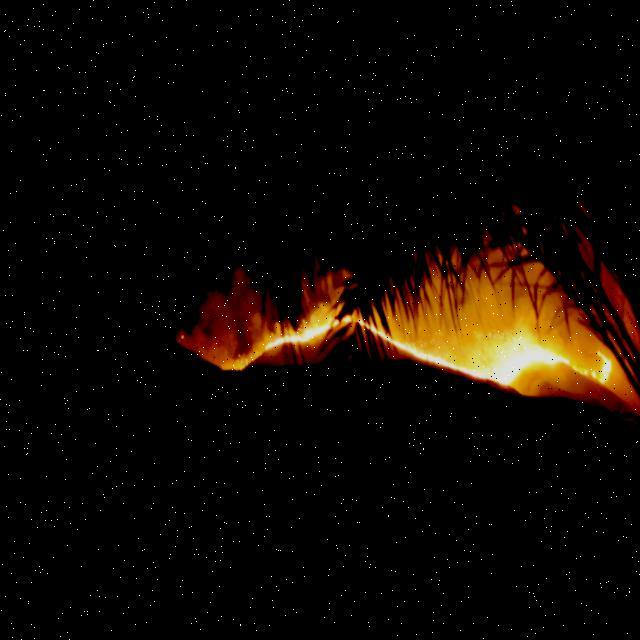Fire: (180, 294, 608, 402)
